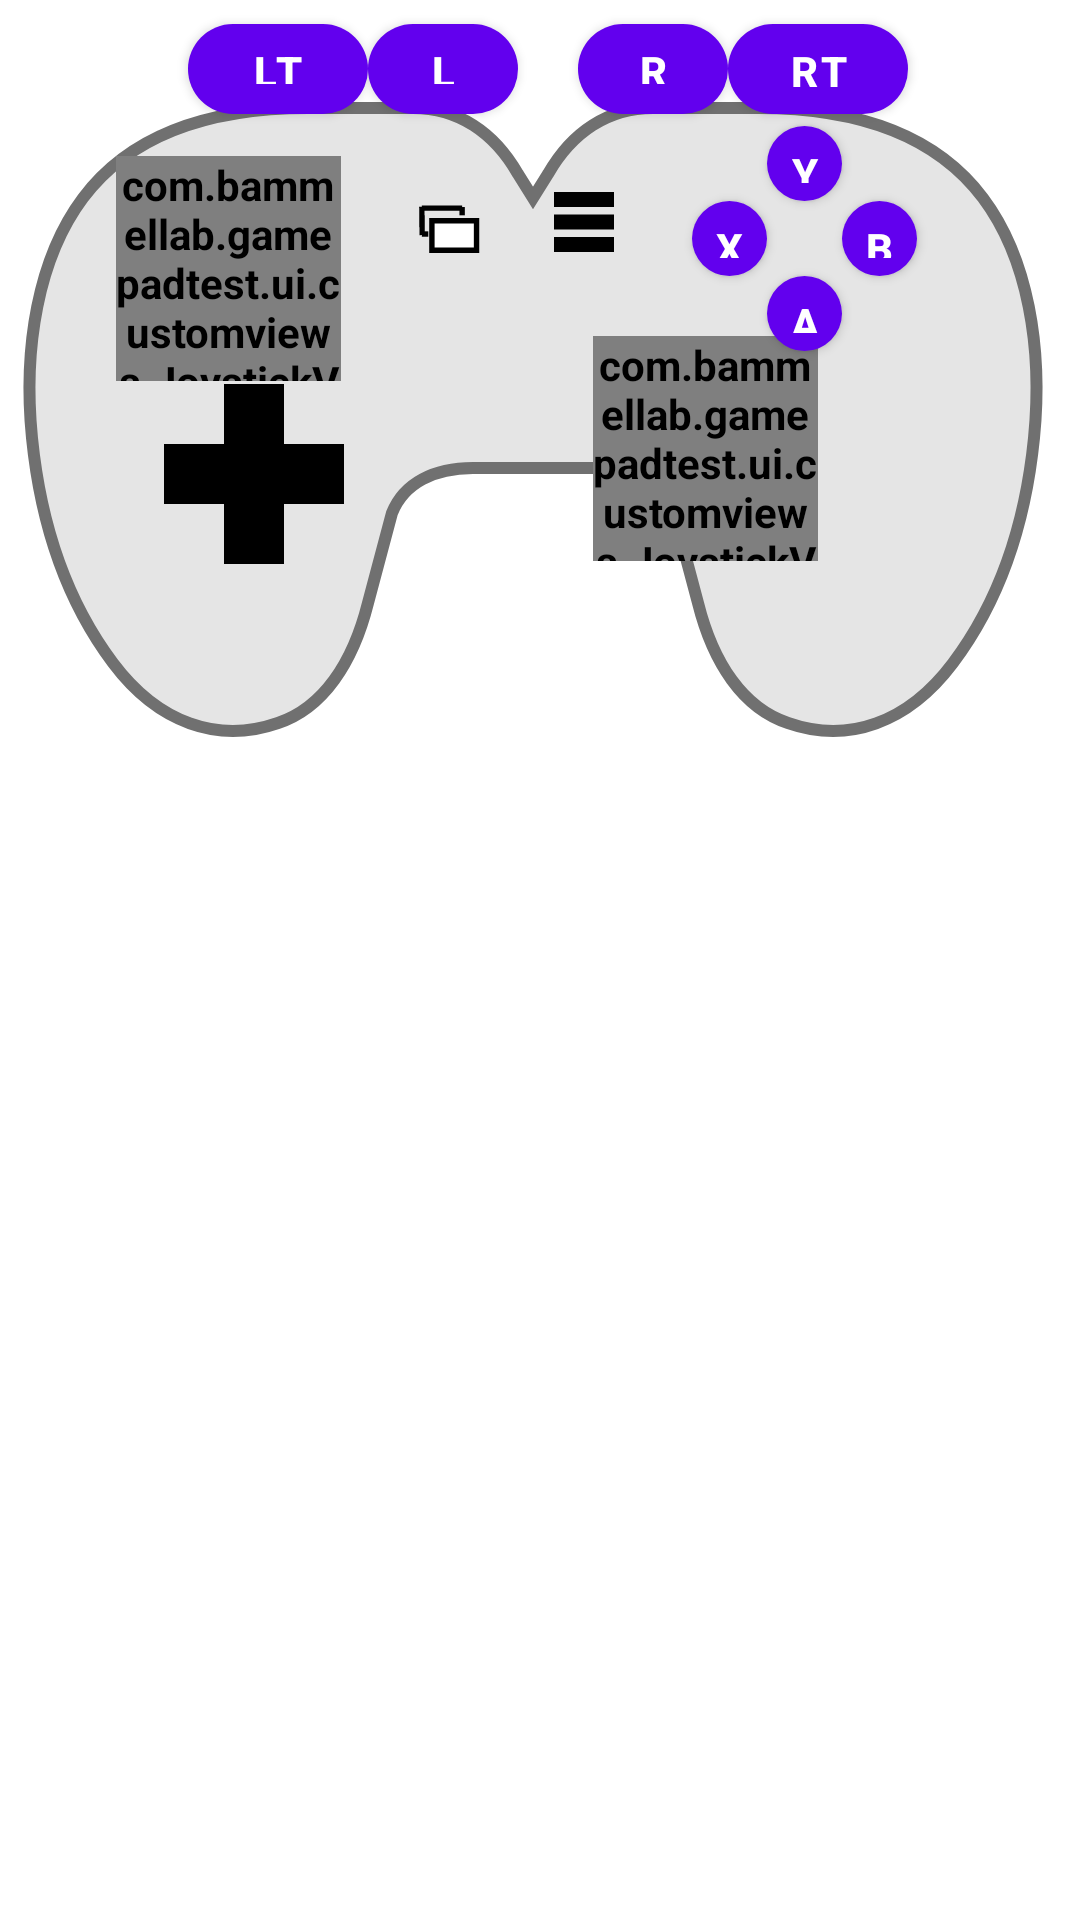

Locate icon controls on the screen. Image size 1080 x 1920, boxes as (x1,y1,x2,y2).
table rows: (554,192,614,252)
